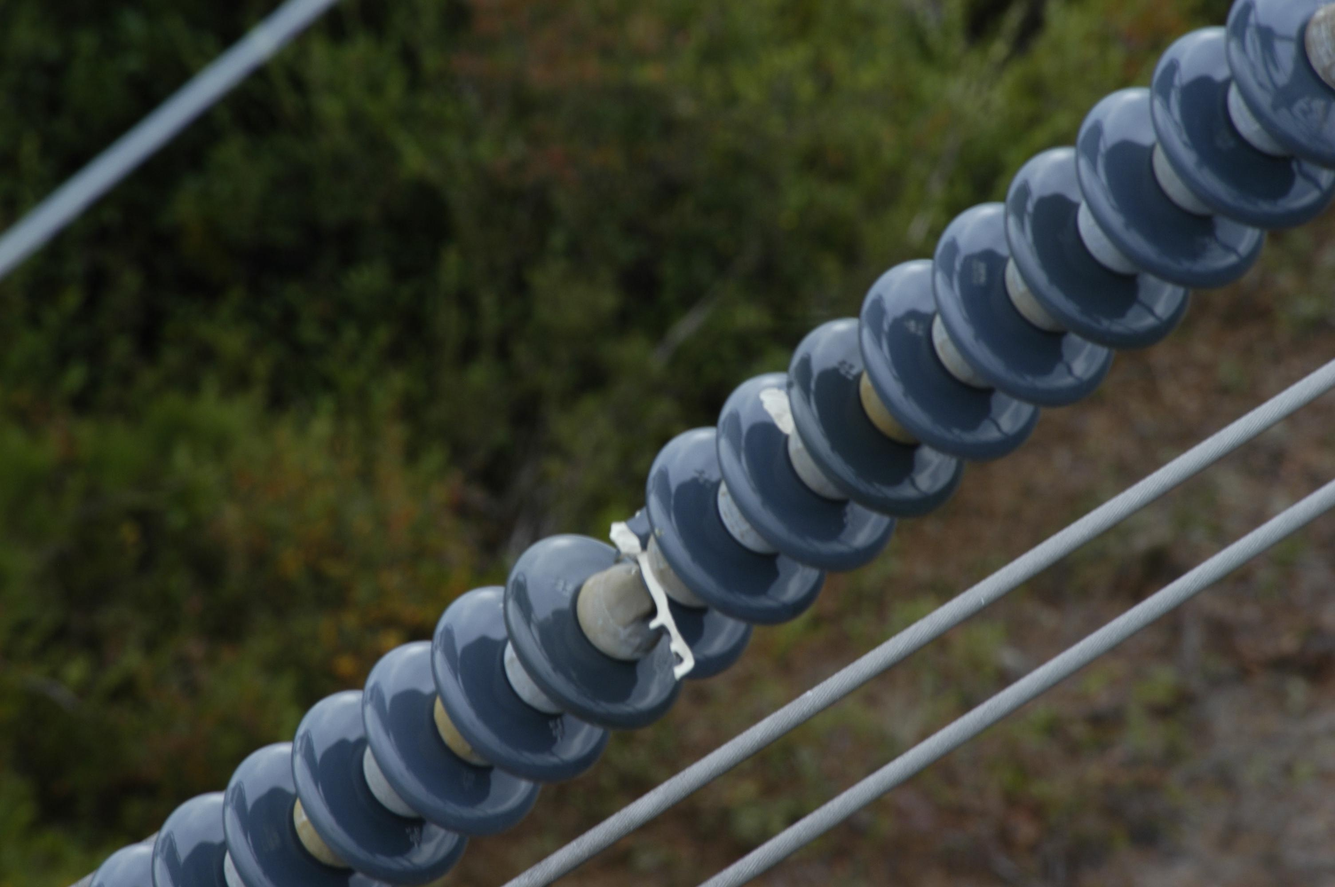damaged: (604, 522, 699, 678)
insulator: (71, 0, 1332, 887)
